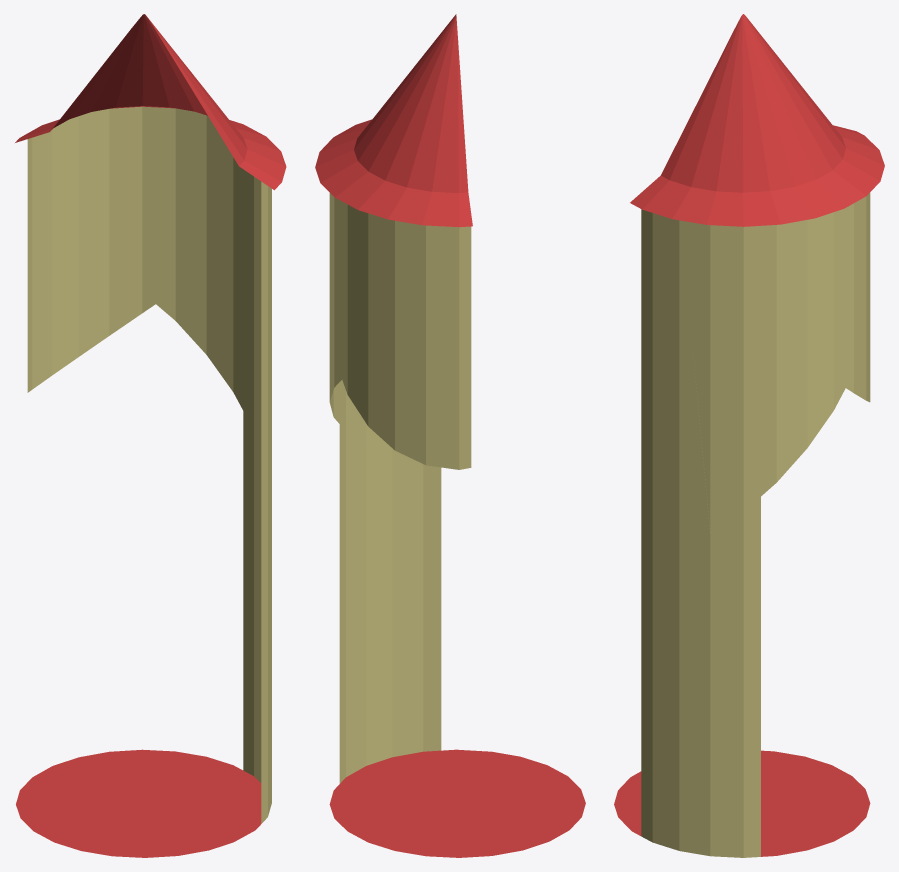
3 renders of one model, left to right at view 1: azimuth 30°, elevation 25°; view 2: azimuth 150°, elevation 25°; view 3: azimuth 270°, elevation 25°, orthographic.
Bounding box in the file's own units: 4.68 × 4.68 × 15.06.
